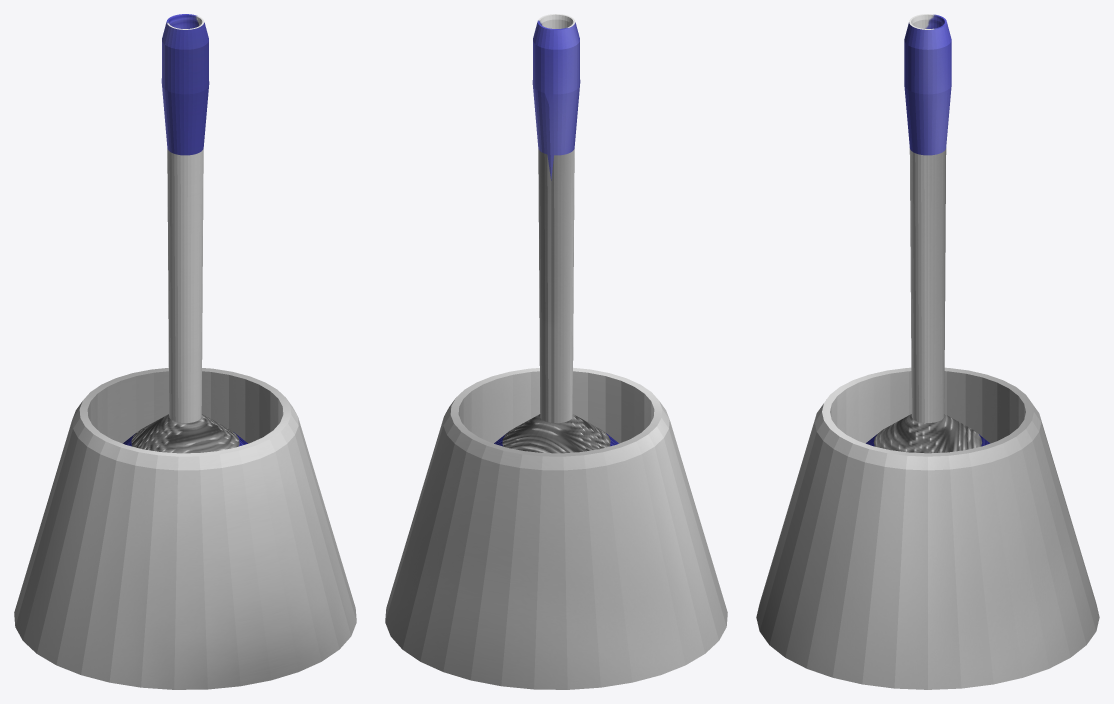
File: vessaharja.fbx
The picture shows the model from 3 angles, left to right: view 1: azimuth 30°, elevation 25°; view 2: azimuth 150°, elevation 25°; view 3: azimuth 270°, elevation 25°; orthographic projection.
Parts seen in each view (by area): view 1: Cylinder; view 2: Cylinder; view 3: Cylinder.
Part boxes in pixels (<box>): Cylinder: <box>14,14,356,689</box>; Cylinder: <box>385,14,727,689</box>; Cylinder: <box>756,14,1099,689</box>.
Size of the model in its own units: 3.03 by 3.03 by 5.79.
